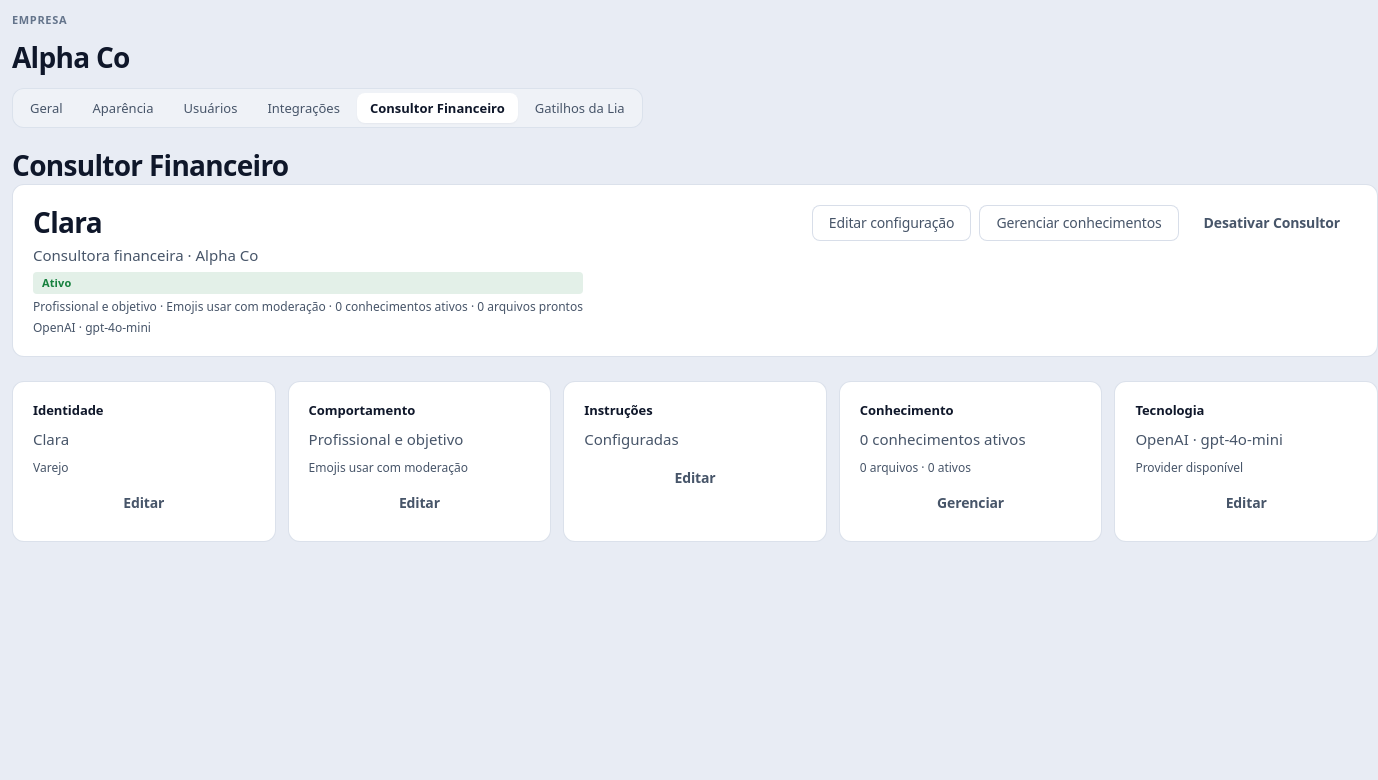
UI admin Consultor (F13.8.1) › editar pelo card de comportamento abre a etapa 3
This screenshot has width=1378, height=780.
Expected: the element with test id "consultant-overview" is shown, [12,184,1377,542]
Click the button "Editar" below "Comportamento" at (419, 503), box [309,485,530,521]
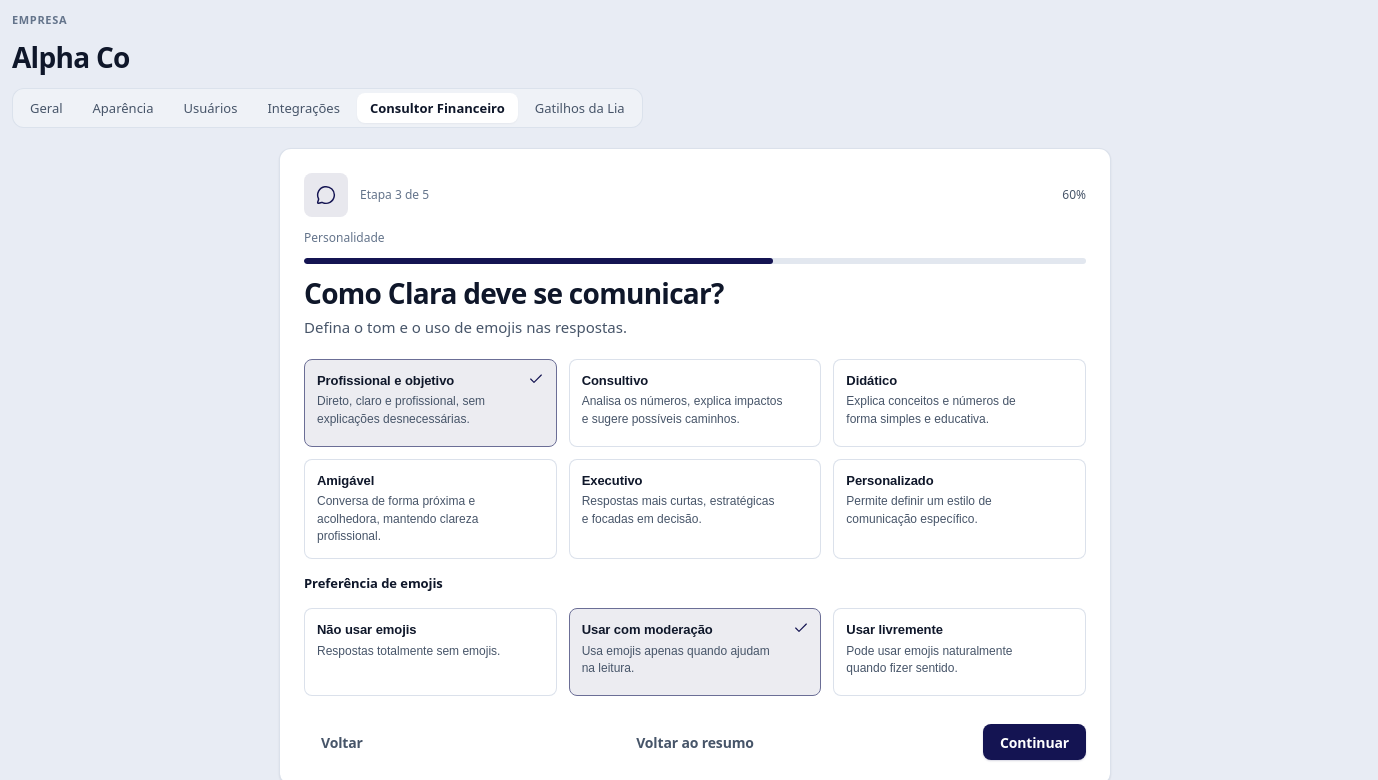
Expected: the element with test id "consultant-wizard-step-3" is shown, [304,359,1086,696]
